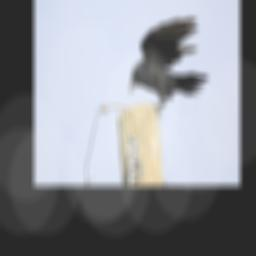Crow: (129, 16, 211, 116)
